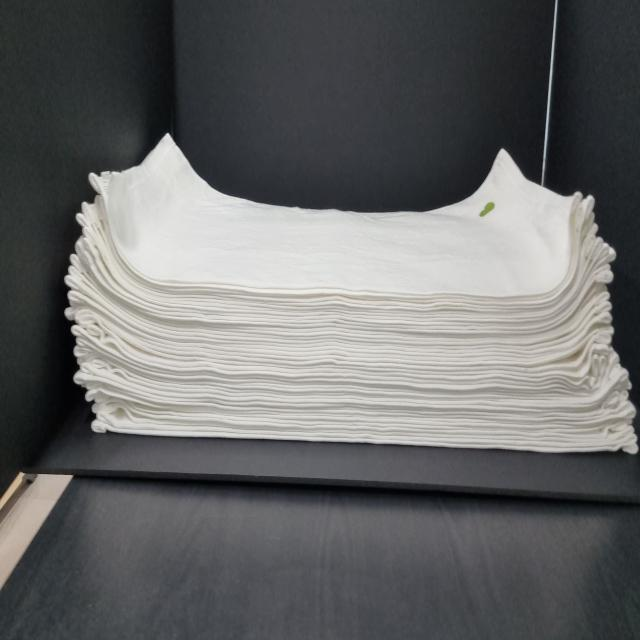not_50count_towel: (59, 111, 640, 462)
